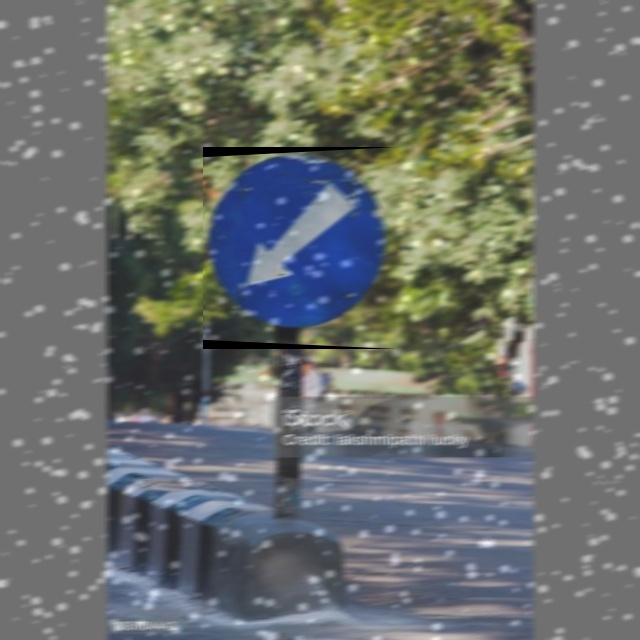Compulsory_Keep_Left: (203, 147, 397, 349)
